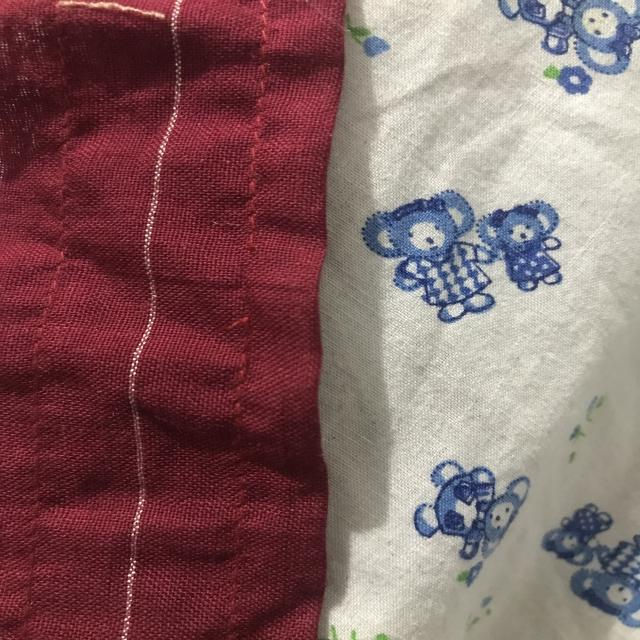broken: (219, 226, 277, 344)
good: (240, 104, 270, 194)
